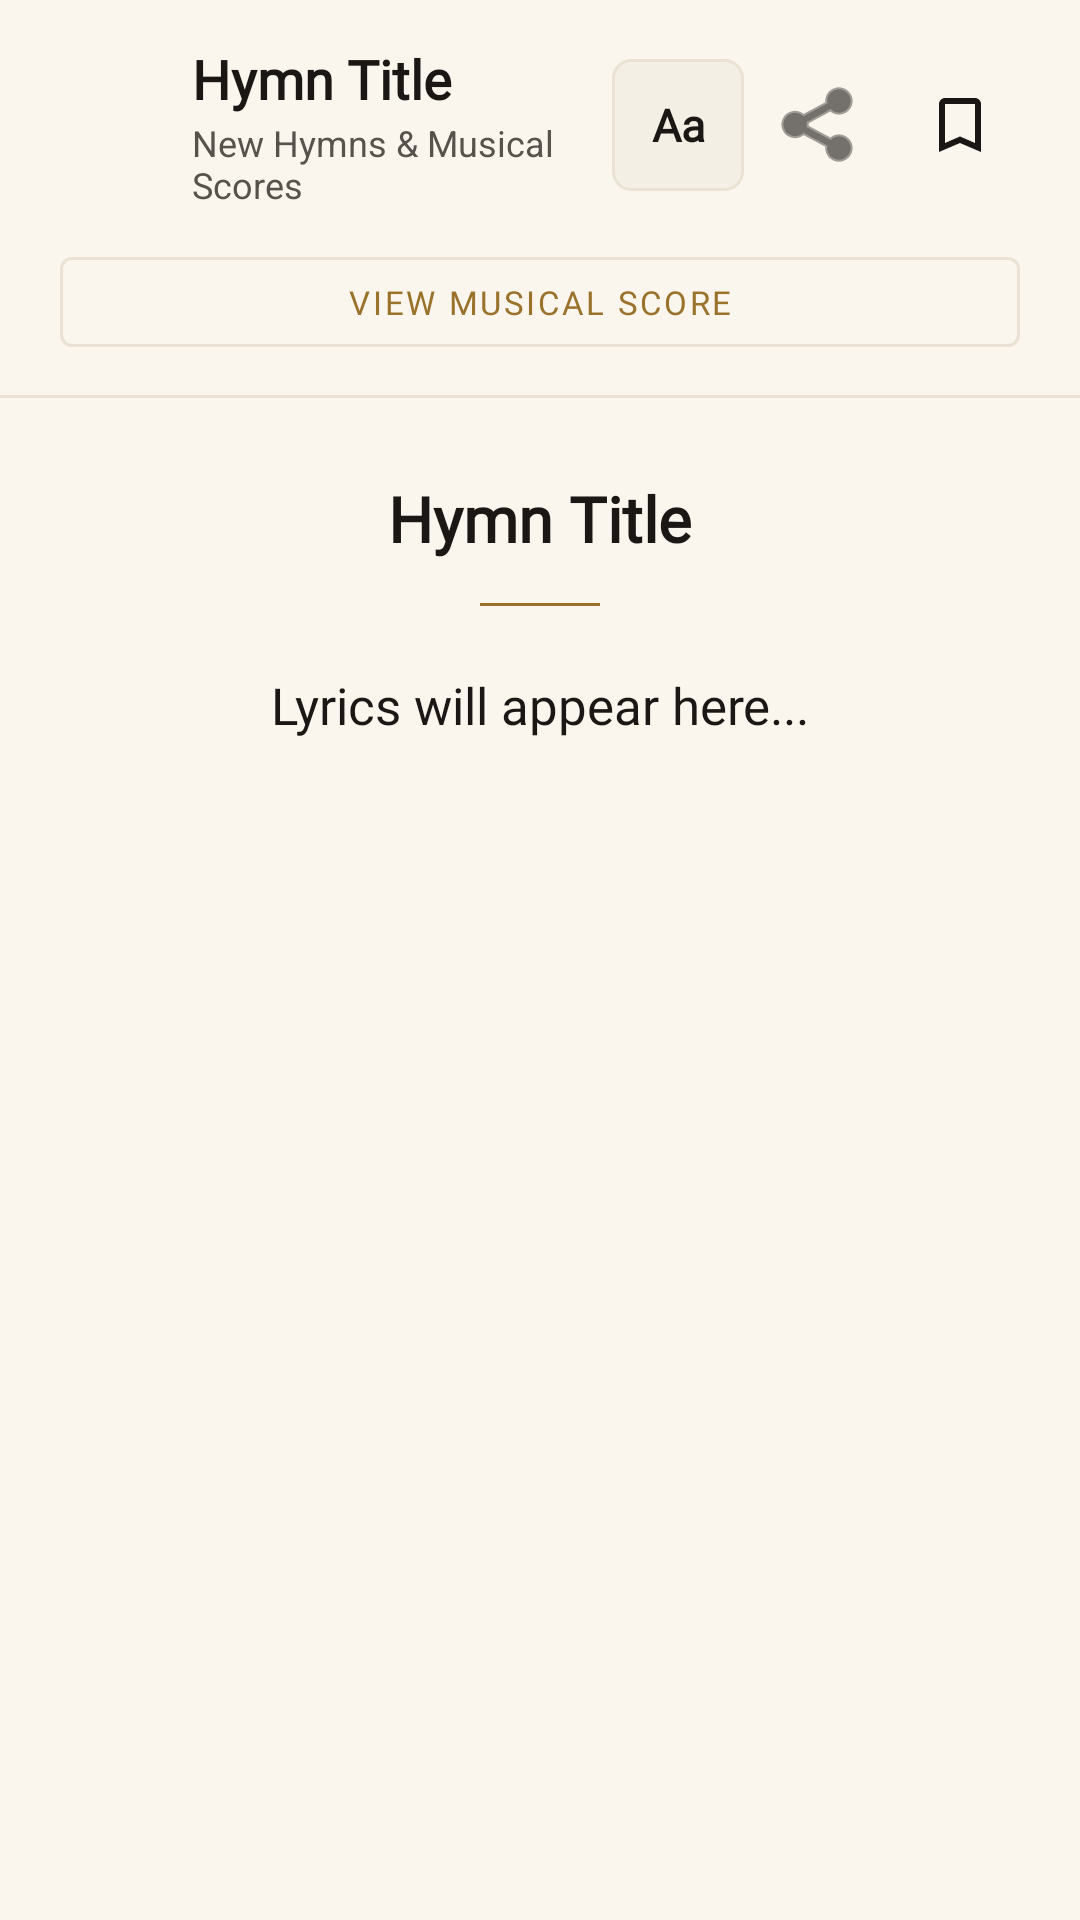

Icons on this 1080*1920 Android screen, each with the point to tap as (x=x, y=y):
Save: (x=960, y=125)
Share or copy hymn: (x=817, y=124)
